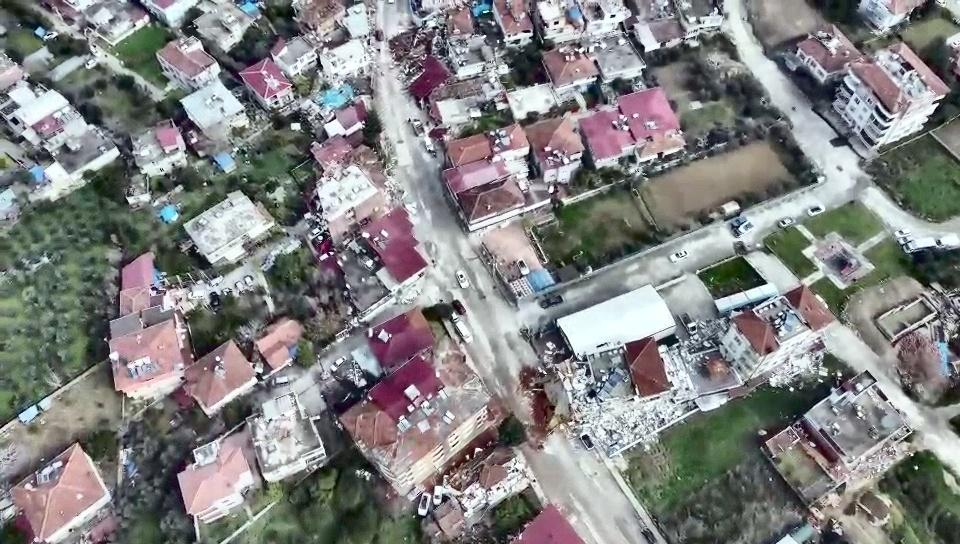kapali: (480, 349, 607, 497), (372, 16, 428, 123)
